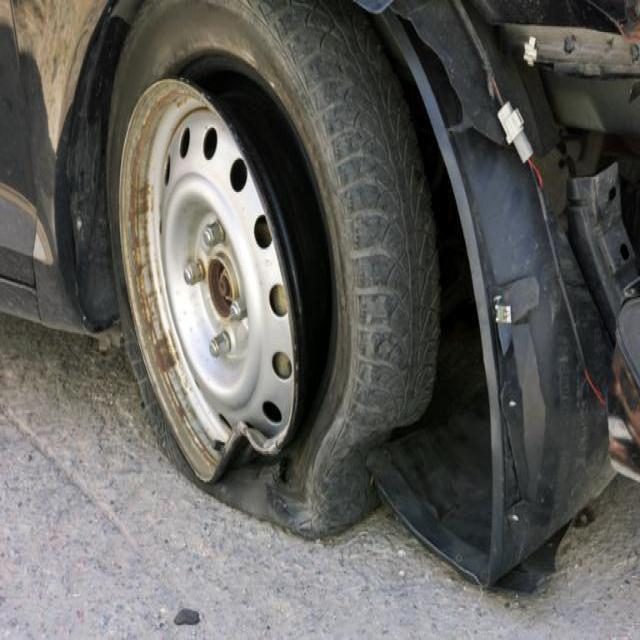Dent: (1, 175, 54, 271), (497, 373, 524, 509), (604, 35, 613, 49), (104, 3, 113, 15), (76, 215, 82, 230), (508, 511, 517, 521), (508, 400, 516, 406)
